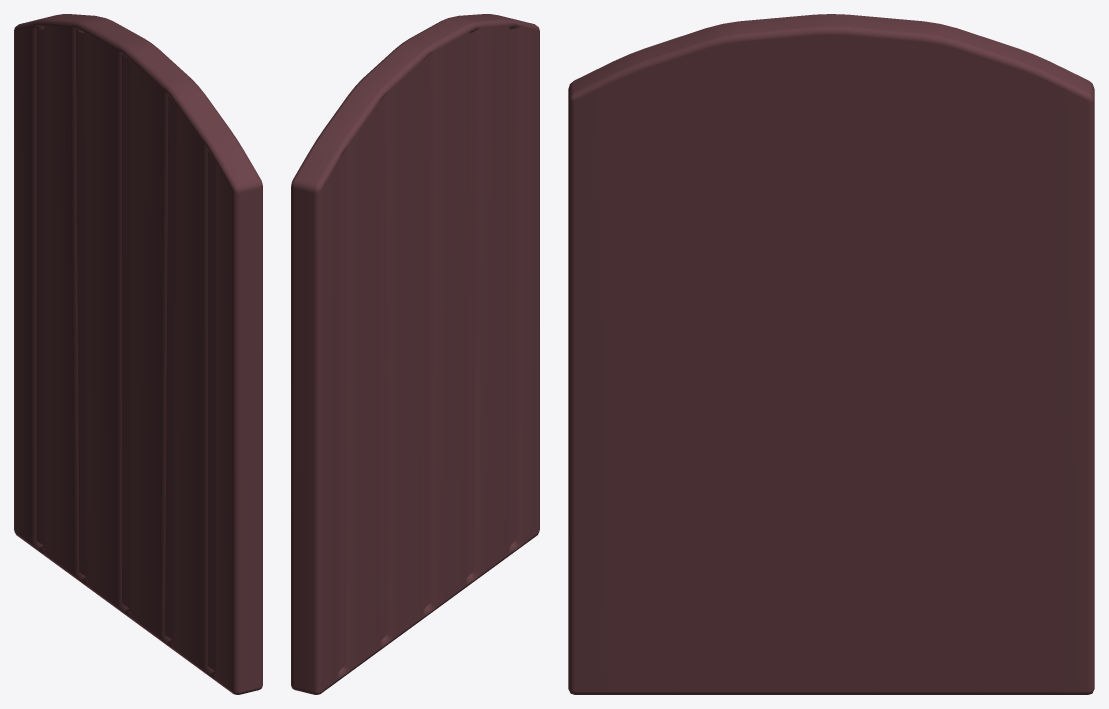
File: FM_H_Doll_BH_Door_001.fbx
3 renders of one model, left to right at view 1: azimuth 30°, elevation 25°; view 2: azimuth 150°, elevation 25°; view 3: azimuth 270°, elevation 25°, orthographic. The views are drawn at different scales.
Parts seen in each view (by area): view 1: H_Doll_BH_Door_001; view 2: H_Doll_BH_Door_001; view 3: H_Doll_BH_Door_001.
Boxes of the visible parts, <box> form: H_Doll_BH_Door_001: <box>14,14,262,694</box>; H_Doll_BH_Door_001: <box>291,14,539,694</box>; H_Doll_BH_Door_001: <box>568,14,1094,694</box>.
Bounding box in the file's own units: 0.1403 × 2.53 × 1.81.
